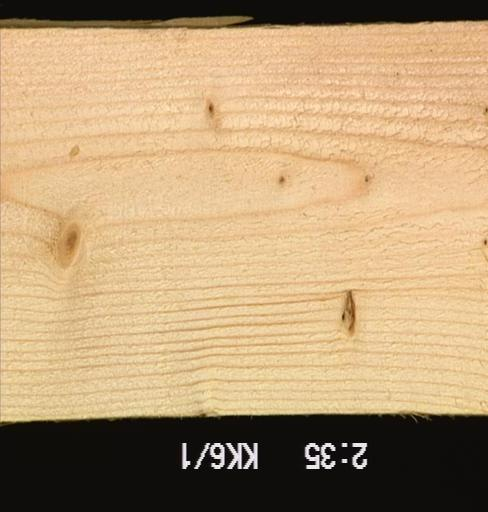small_knot: (194, 96, 223, 125), (270, 171, 292, 188), (478, 102, 486, 121), (478, 235, 486, 253)
sound_knot: (44, 220, 91, 267)
